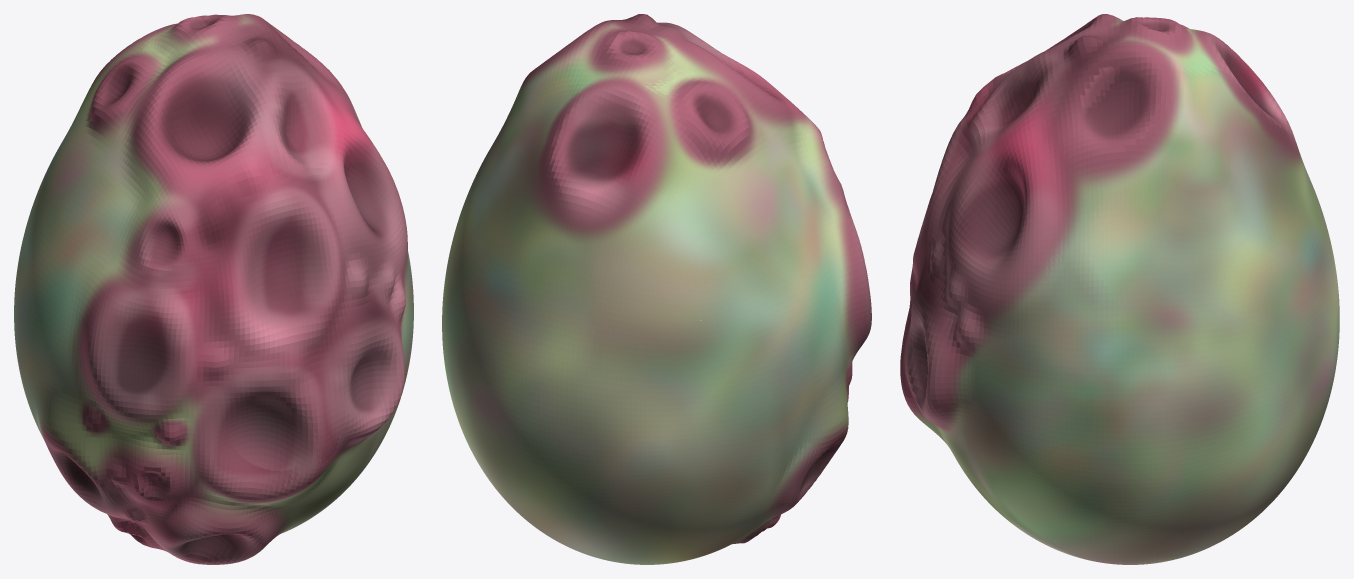
The model's file is egg.fbx.
3 views of the same model, side by side, from view 1: azimuth 30°, elevation 25°; view 2: azimuth 150°, elevation 25°; view 3: azimuth 270°, elevation 25° (orthographic). The views are drawn at different scales.
Parts seen in each view (by area): view 1: Quad Sphere; view 2: Quad Sphere; view 3: Quad Sphere.
Boxes of the visible parts, x1,y1,x2,y2 form: Quad Sphere: (14,14,413,564); Quad Sphere: (442,14,871,564); Quad Sphere: (900,14,1339,564).
Bounding box in the file's own units: 258 × 357 × 269.
Materials: 1 (1 with a texture image).
